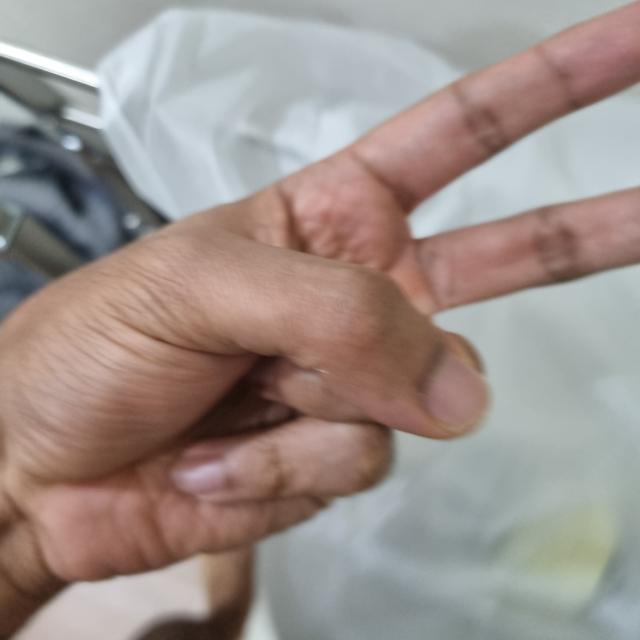Scissors: (0, 217, 481, 634)
